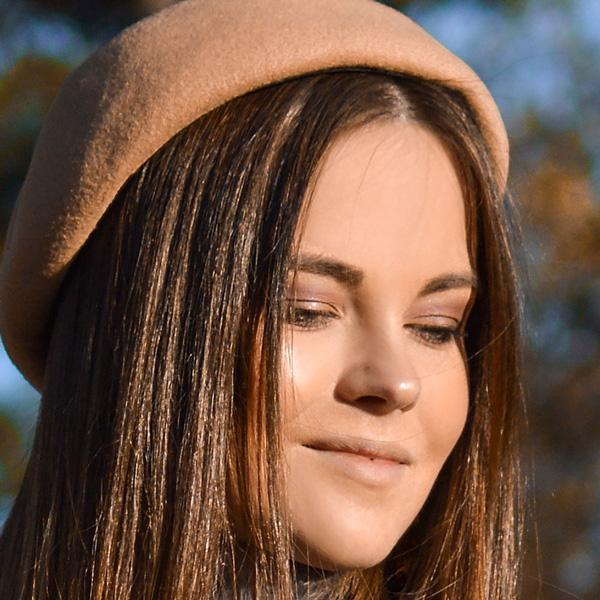Eyes: (254, 272, 348, 341), (394, 294, 470, 356)
